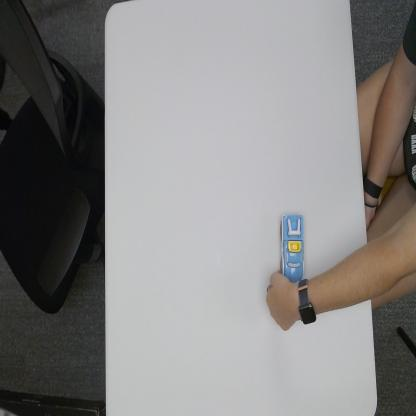Arm: (317, 246, 371, 319)
Car: (279, 212, 306, 282)
Hand: (265, 270, 299, 334)
